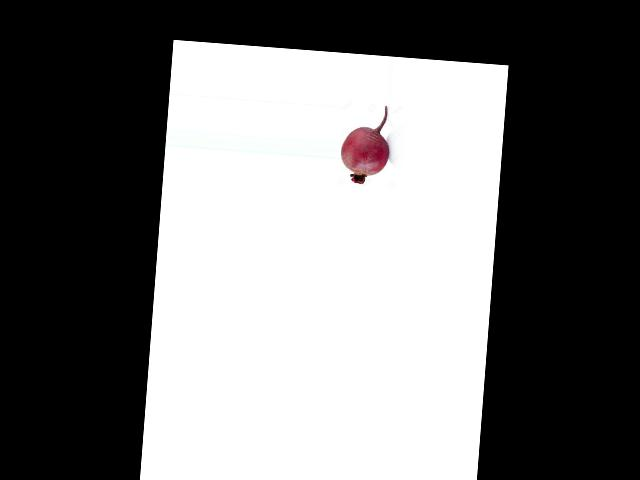beet: (339, 102, 392, 185)
